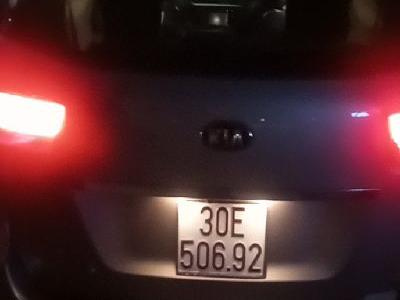car: (173, 193, 267, 284)
